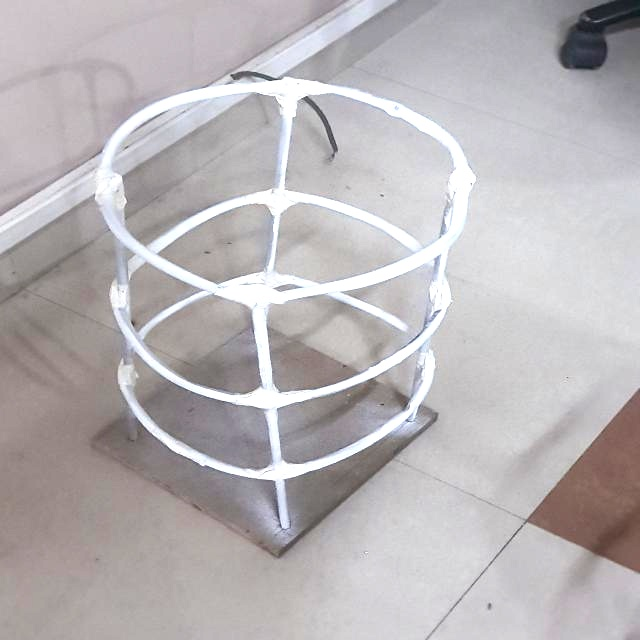silo: (92, 82, 438, 527)
